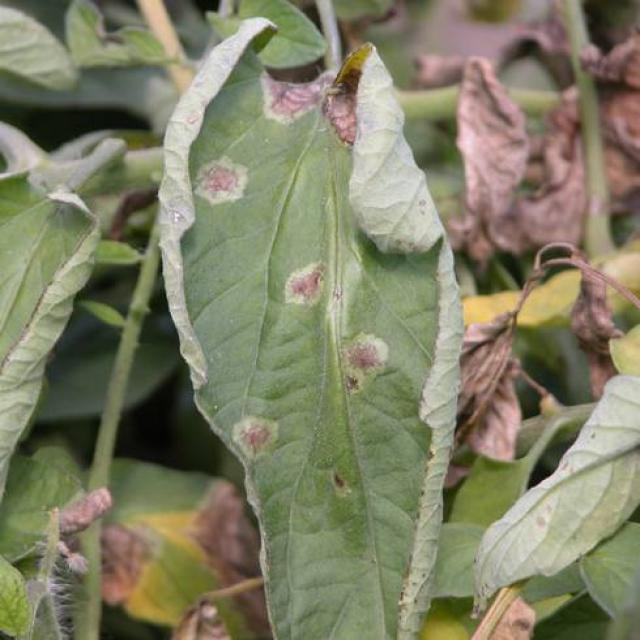Tomato late blight leaf: (144, 7, 472, 638)
